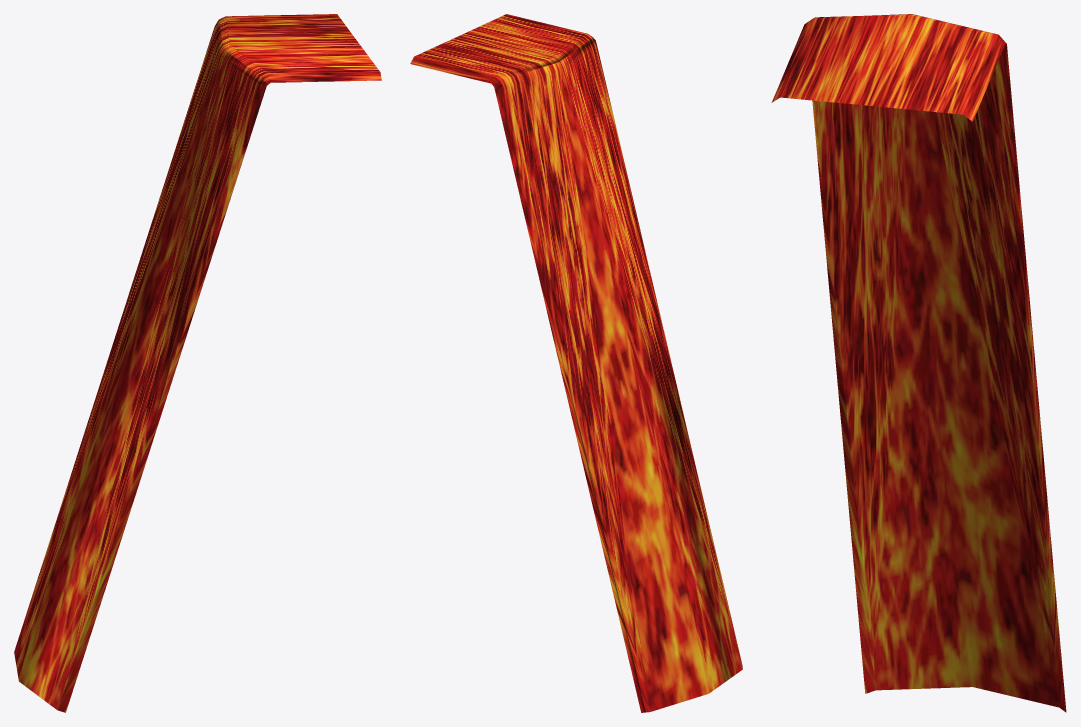
The model's file is volcano_02_plane_02.FBX.
3 renders of one model, left to right at view 1: azimuth 30°, elevation 25°; view 2: azimuth 150°, elevation 25°; view 3: azimuth 270°, elevation 25°, orthographic. The views are drawn at different scales.
Parts seen in each view (by area): view 1: plane02; view 2: plane02; view 3: plane02.
Part boxes in pixels (bbox=[...]): plane02: bbox=[14, 14, 381, 712]; plane02: bbox=[410, 14, 742, 712]; plane02: bbox=[771, 14, 1066, 712].
Bounding box in the file's own units: 10.03 × 18.54 × 6.24.
